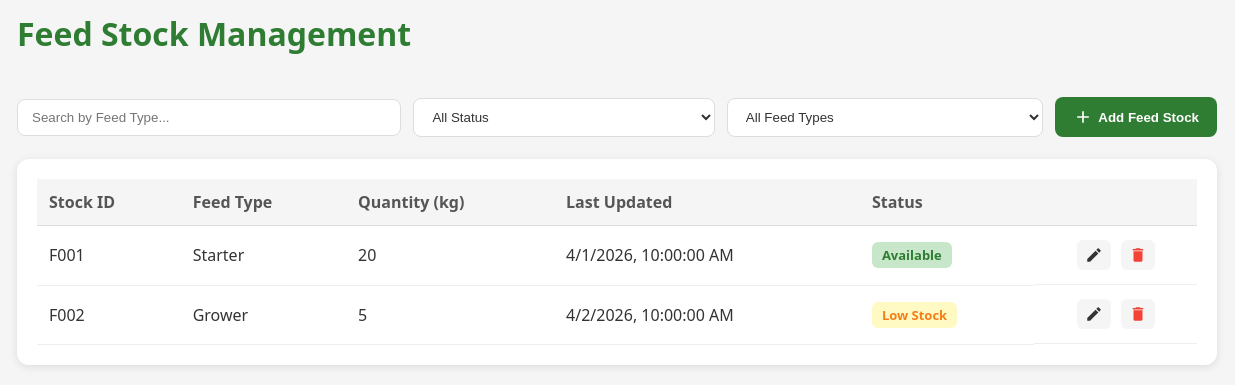
Scenario: FeedStockList › filters by feed type search
Expected: the text "F001" is shown, [37, 226, 181, 285]
Type "Starter" into the field with placeholder "Search by Feed Type...".
click(209, 117); type("Starter")  # box [17, 98, 401, 136]
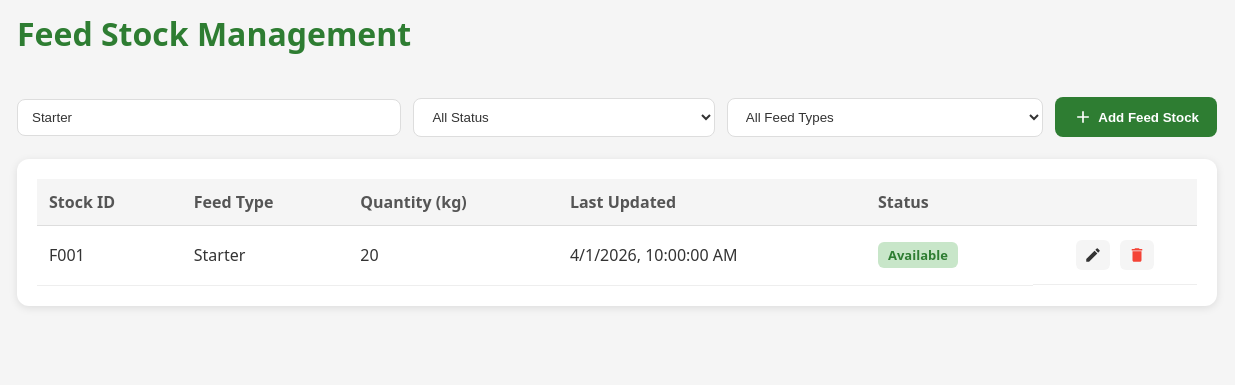
Expected: the text "F001" is shown, [37, 226, 182, 285]
Expected: the text "F002" is gone
